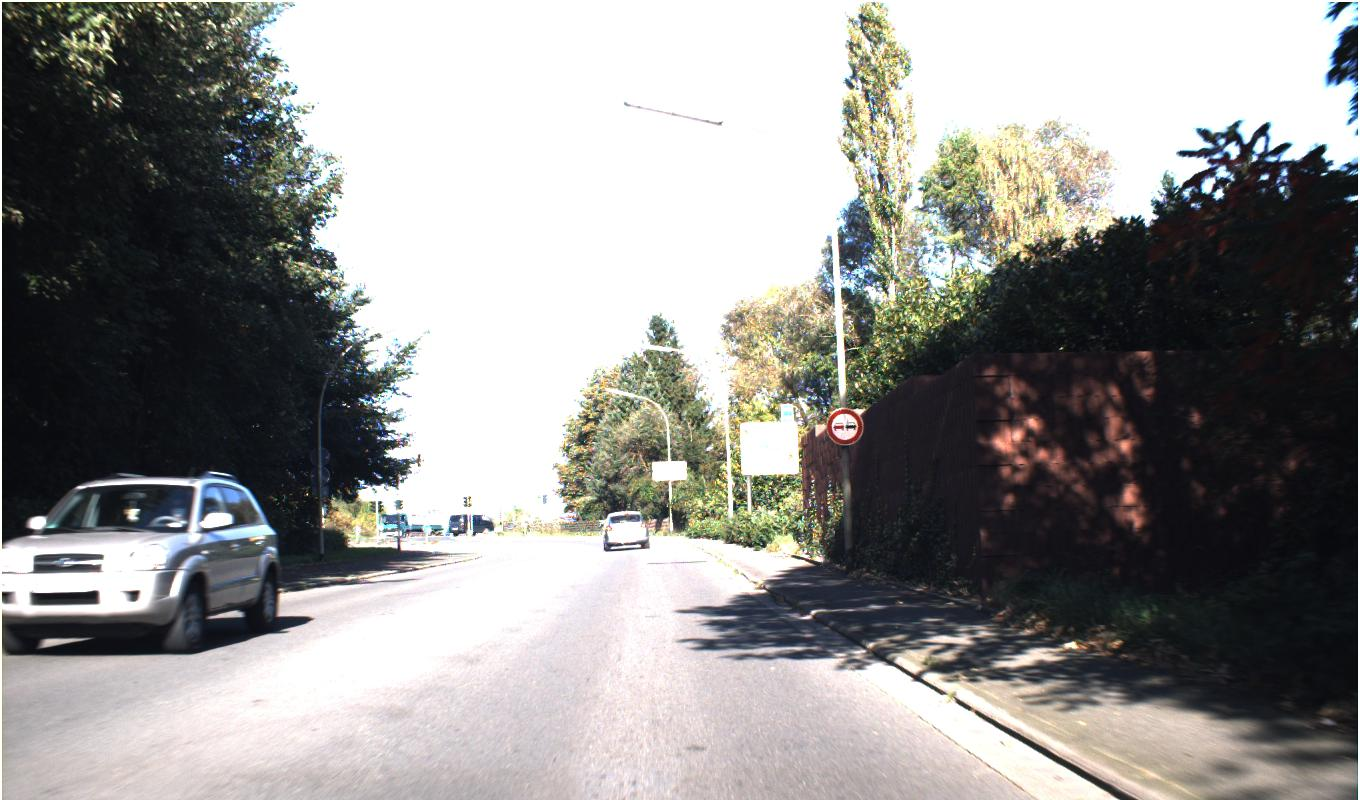prohibitory: (825, 406, 864, 445)
